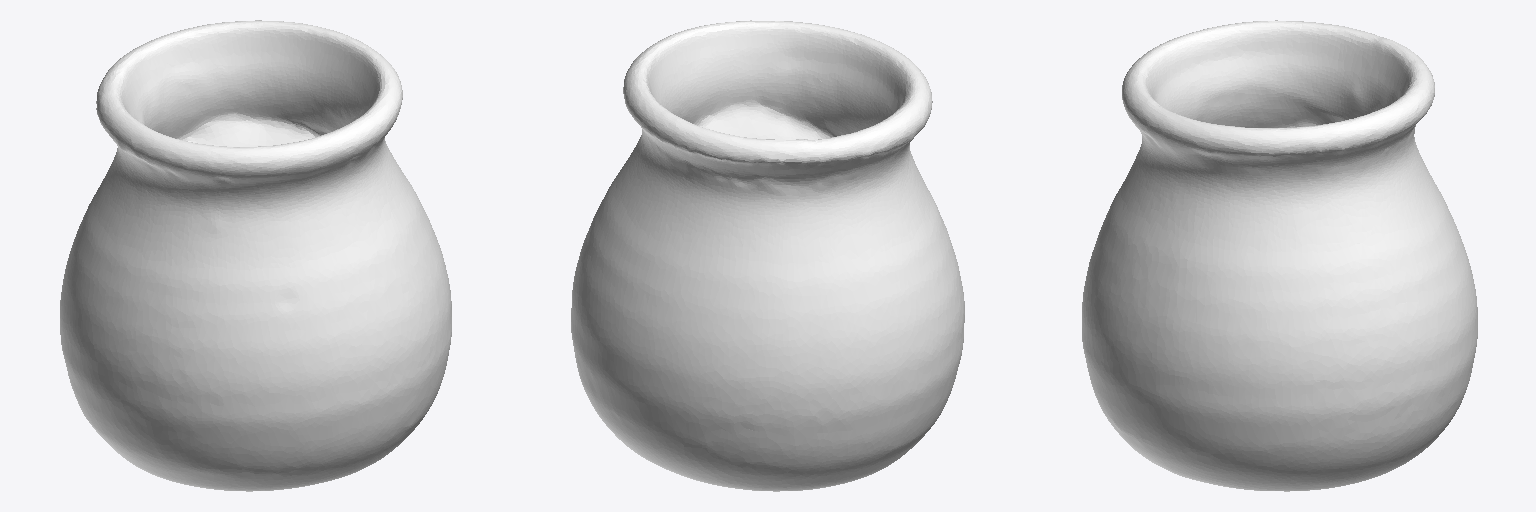
The robot description file, URDF, robot "model.urdf":
<robot name="model.urdf">
    <link name="baseLink">
        <contact>
            <lateral_friction value="0.45"/>
            <rolling_friction value="1"/>
            <spinning_friction value="1"/>
            <contact_cfm value="0.0"/>
            <contact_erp value="1.0"/>
        </contact>
        <inertial>
            <origin rpy="0 -0.03 0" xyz="0.000 0.000 -0.01"/>
            <mass value="1.0"/>
            <inertia ixx="1e-3" ixy="0" ixz="0" iyy="1e-3" iyz="0" izz="1e-3"/>
        </inertial>
        <visual>
            <geometry>
                <mesh filename="nontextured.stl" scale="1 1 1"/>
            </geometry>
            <material name="white">
                <color rgba="1 1 1 1"/>
            </material>
        </visual>
        <collision>
            <geometry>
                <mesh filename="nontextured.stl" scale="1 1 1"/>
            </geometry>
        </collision>
    </link>
</robot>

--- Render facts (derived) ---
Views: 3 orthographic renders of the robot side by side, from view 1: azimuth 30°, elevation 25°; view 2: azimuth 150°, elevation 25°; view 3: azimuth 270°, elevation 25°.
Robot: model.urdf — 1 links, 0 joints (none); root link baseLink; default pose: all joints at 0.
Links seen in each view (by area): view 1: baseLink; view 2: baseLink; view 3: baseLink.
Link boxes in pixels (x1,y1,x2,y2): baseLink: (60, 20, 451, 491); baseLink: (571, 20, 964, 491); baseLink: (1082, 20, 1477, 491).
Bounding box of the posed robot: 0.0817 × 0.0811 × 0.084 m (x, y, z).
1 mesh visuals loaded from 1 distinct referenced files (1 binary STL).